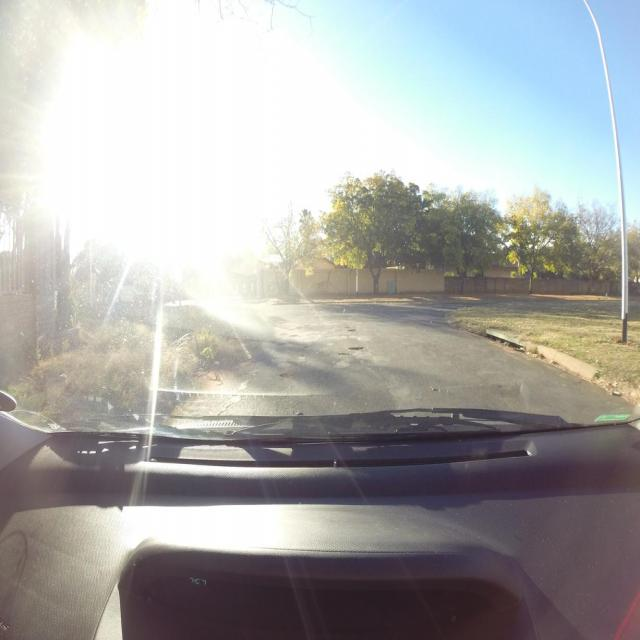Pothole: (279, 373, 293, 378), (348, 347, 365, 350), (338, 352, 349, 356), (278, 342, 286, 346), (289, 335, 299, 338), (347, 329, 356, 332), (296, 326, 302, 329), (344, 326, 351, 328)
